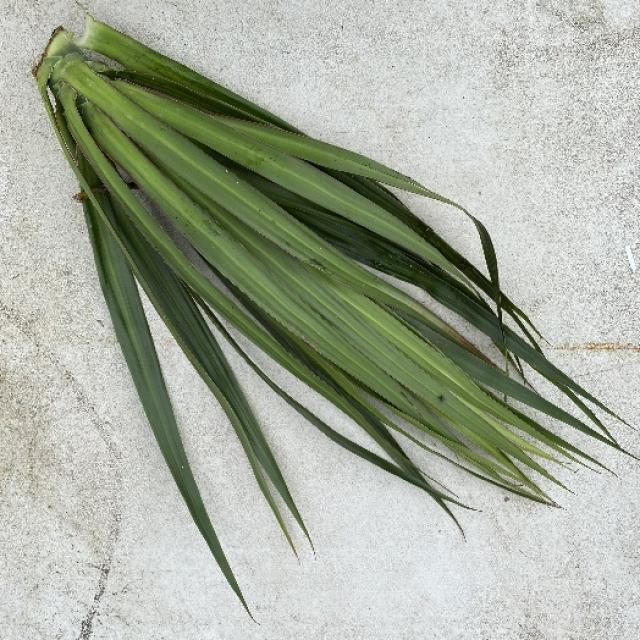wet: (133, 396, 268, 625)
